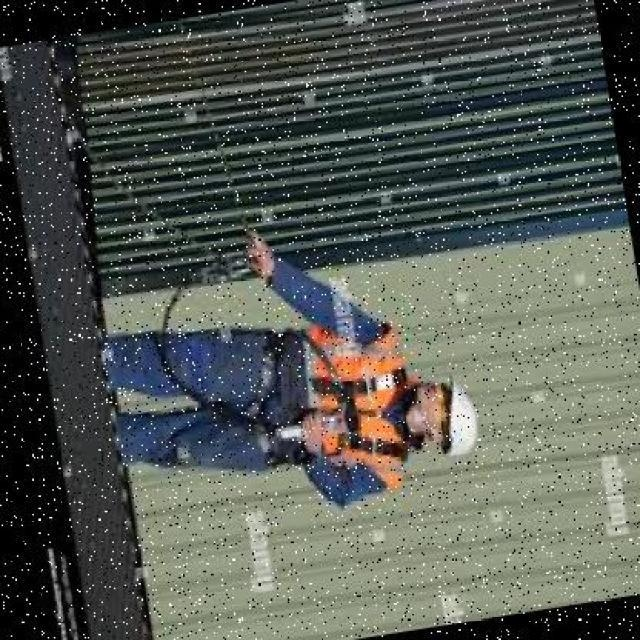Arnes_seguridad: (236, 316, 416, 495)
